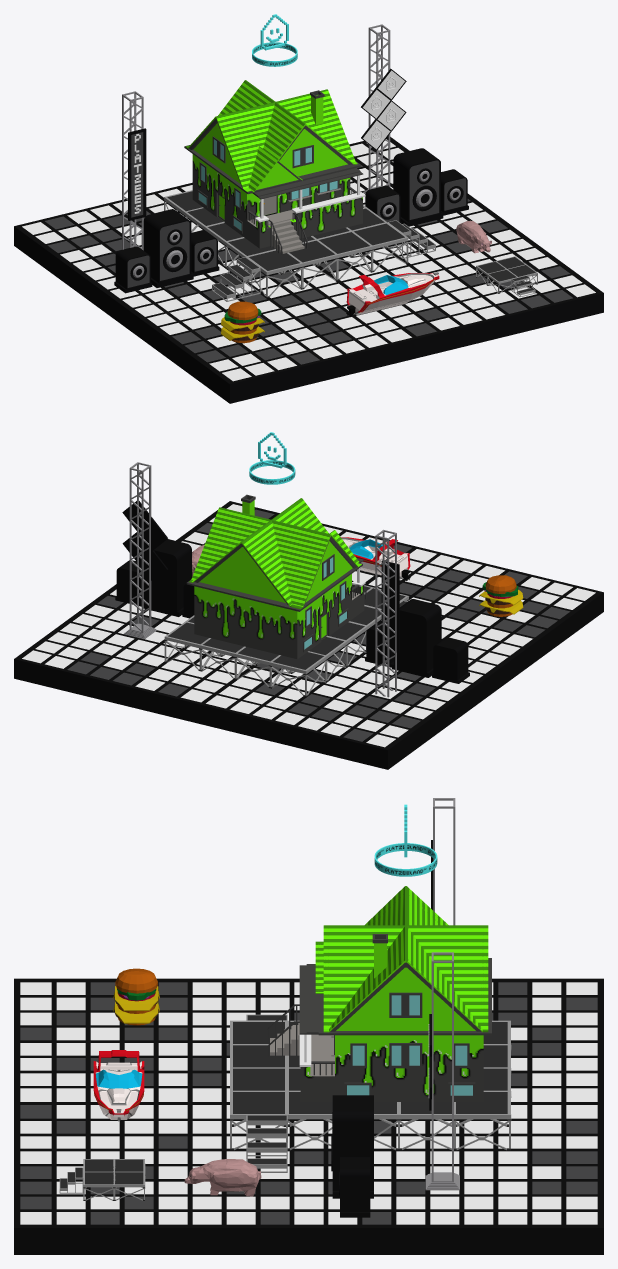
3 renders of one model, top to bottom at view 1: azimuth 30°, elevation 25°; view 2: azimuth 150°, elevation 25°; view 3: azimuth 270°, elevation 25°, orthographic. The views are drawn at different scales.
Parts seen in each view (by area): view 1: Cube.008, Cube.754, VEHICLES_BOAT, OBJRANDOM_HAMBURGER, TYPE_PREMIUM, ANIMAL_HIPOPOTAMO; view 2: Cube.008, Cube.754, OBJRANDOM_HAMBURGER, VEHICLES_BOAT, TYPE_PREMIUM; view 3: Cube.008, Cube.754, VEHICLES_BOAT, OBJRANDOM_HAMBURGER, ANIMAL_HIPOPOTAMO, TYPE_PREMIUM.
Part boxes in pixels (bbox=[...]): Cube.008: bbox=[14, 24, 603, 403]; Cube.754: bbox=[184, 80, 365, 254]; VEHICLES_BOAT: bbox=[346, 272, 439, 316]; OBJRANDOM_HAMBURGER: bbox=[221, 301, 264, 343]; TYPE_PREMIUM: bbox=[252, 14, 297, 66]; ANIMAL_HIPOPOTAMO: bbox=[456, 220, 491, 253]; Cube.008: bbox=[14, 462, 603, 769]; Cube.754: bbox=[186, 494, 366, 659]; OBJRANDOM_HAMBURGER: bbox=[479, 575, 523, 616]; VEHICLES_BOAT: bbox=[341, 537, 410, 580]; TYPE_PREMIUM: bbox=[249, 432, 295, 484]; Cube.008: bbox=[14, 798, 603, 1254]; Cube.754: bbox=[267, 886, 491, 1101]; VEHICLES_BOAT: bbox=[93, 1050, 144, 1121]; OBJRANDOM_HAMBURGER: bbox=[113, 968, 159, 1025]; ANIMAL_HIPOPOTAMO: bbox=[184, 1159, 261, 1196]; TYPE_PREMIUM: bbox=[374, 804, 437, 876].
Bounding box in the file's own units: 4000 × 2515 × 4000.
Materials: 38 (3 with a texture image).
